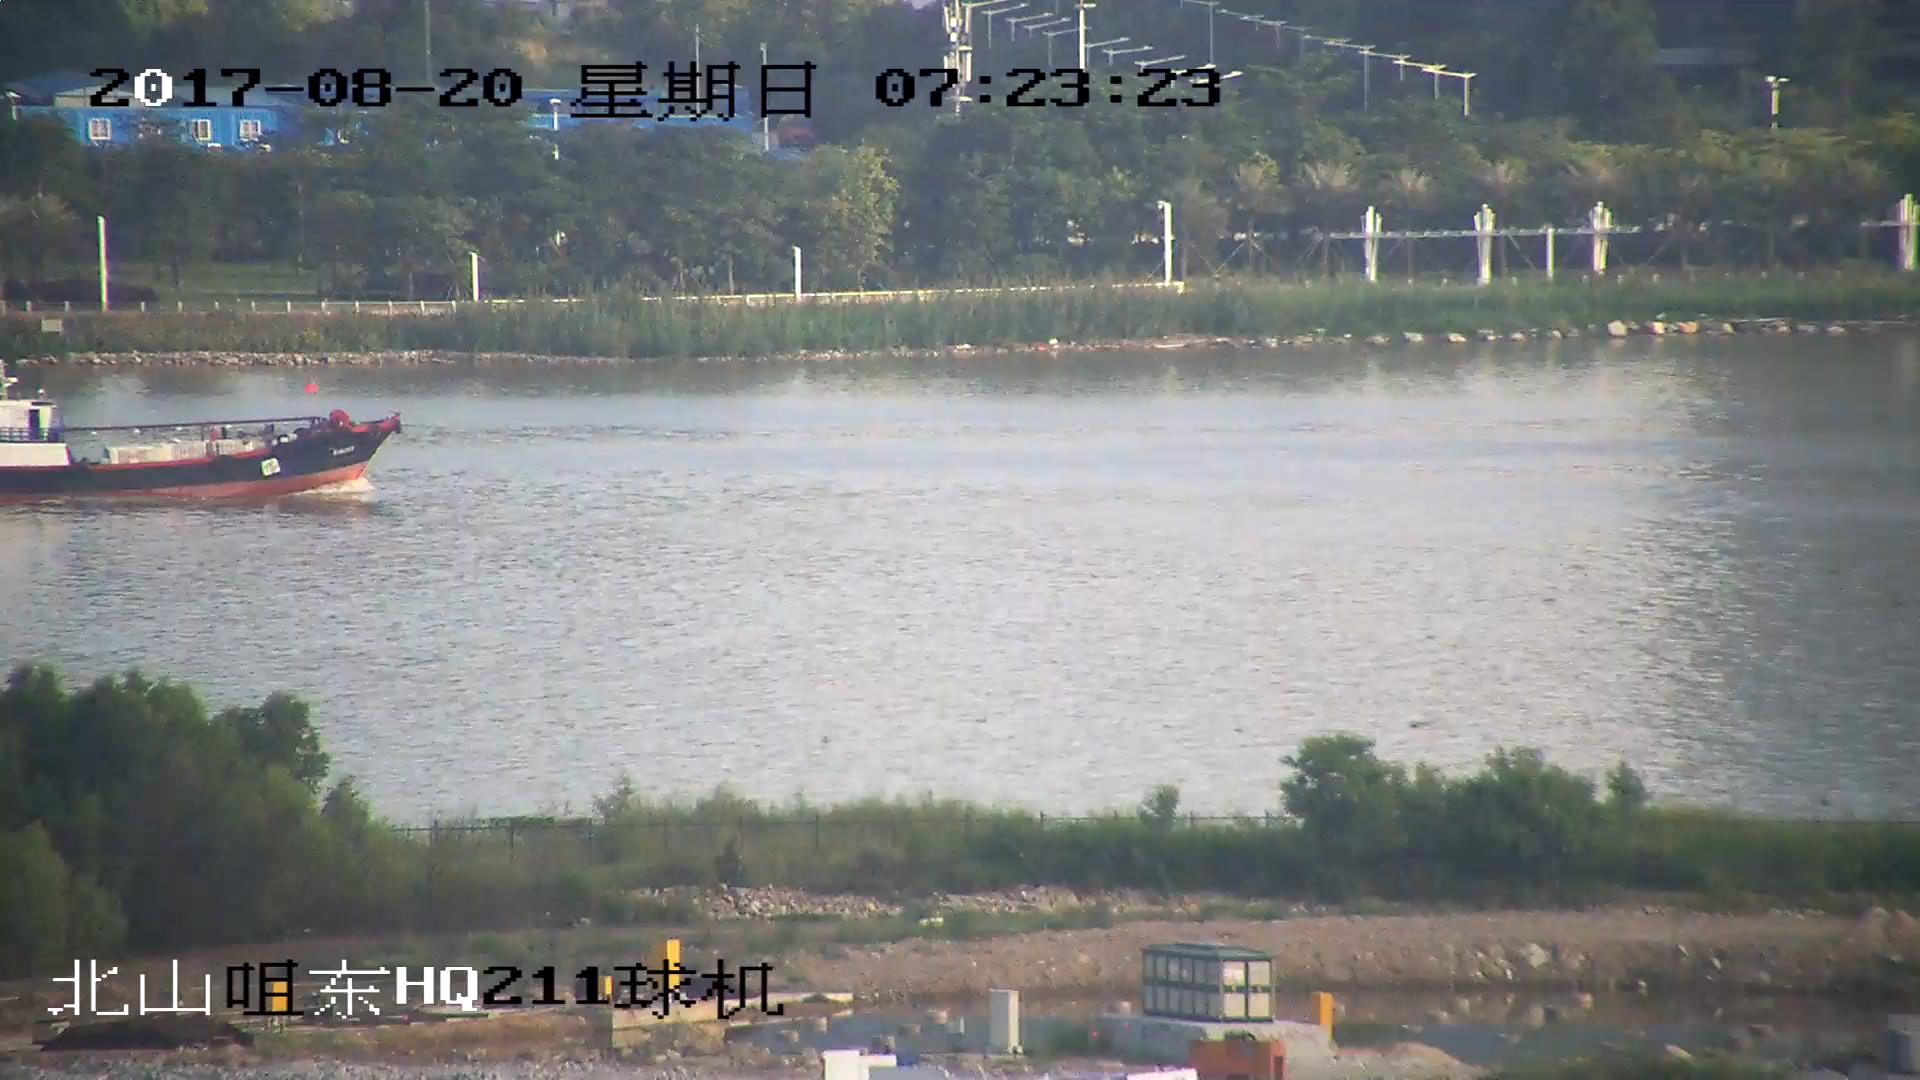fishing boat: (1, 387, 404, 500)
